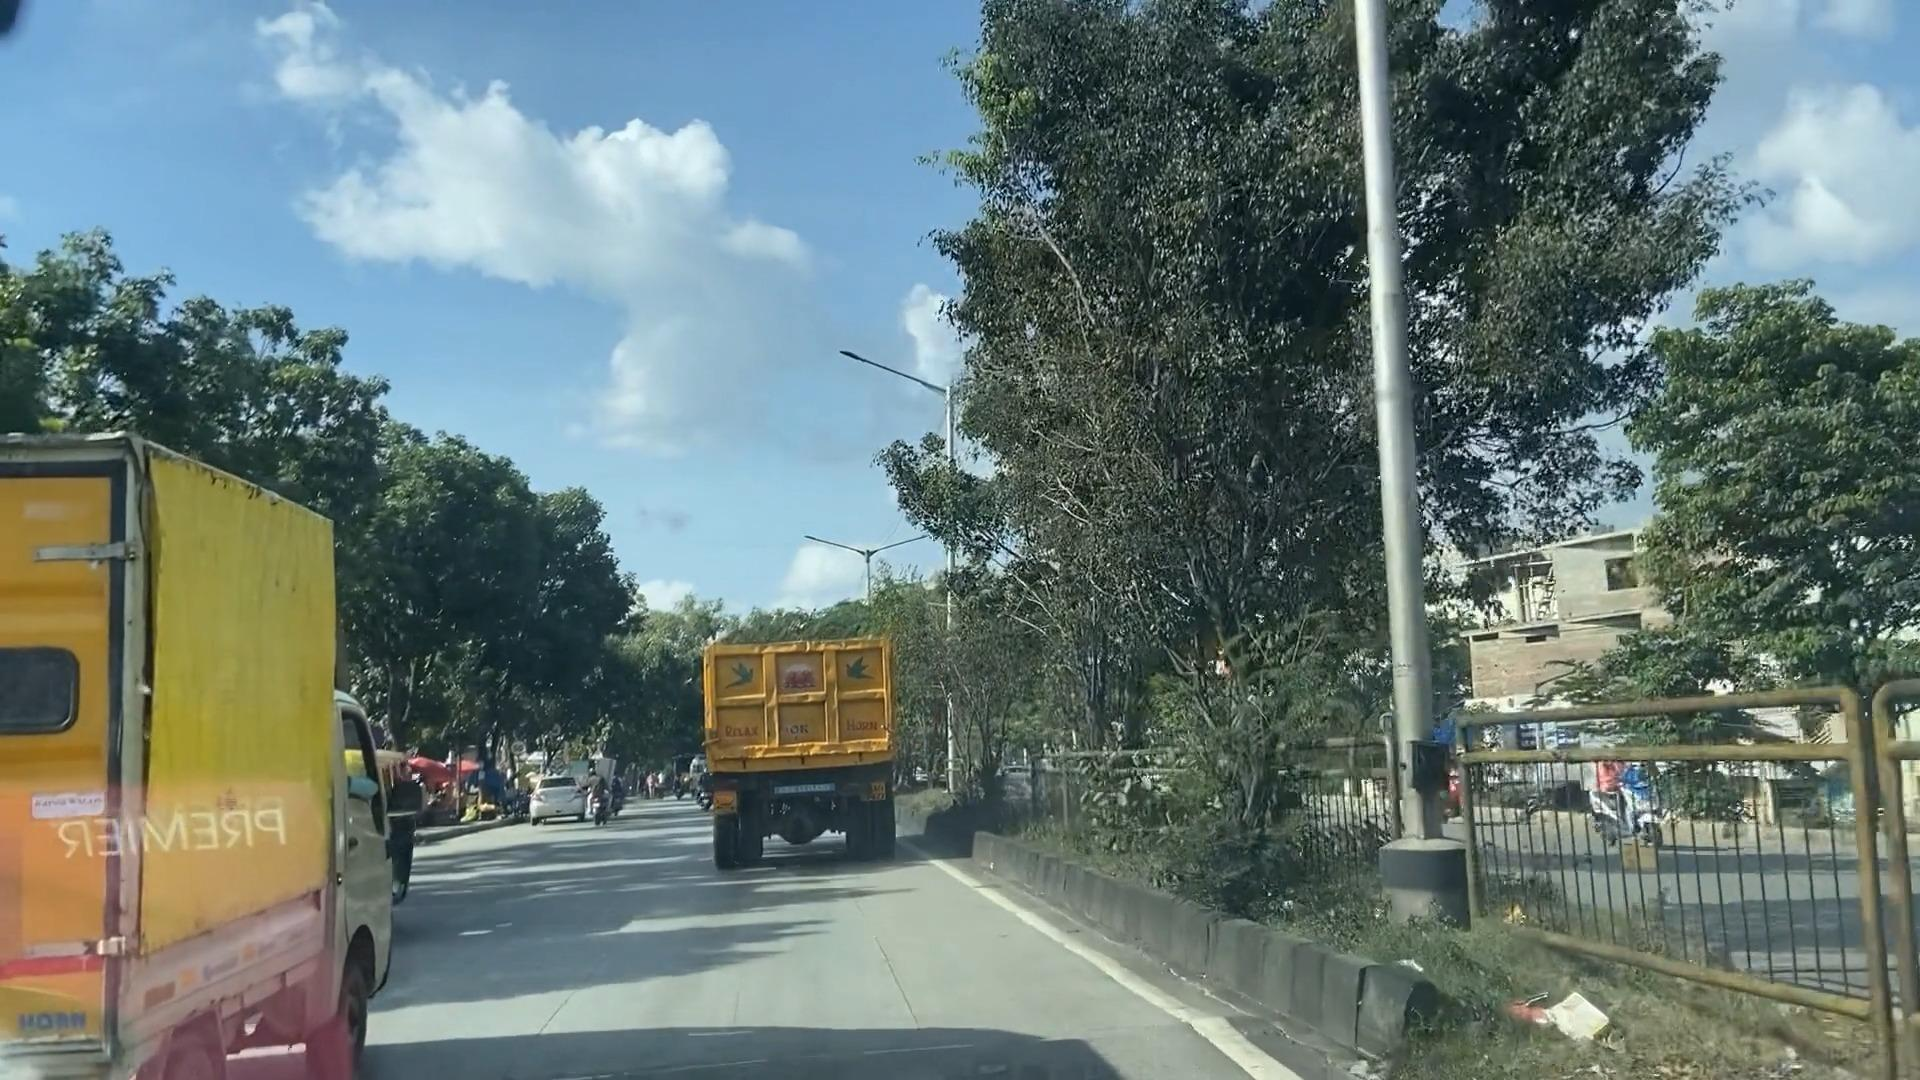HMV: (17, 439, 414, 1080), (699, 619, 894, 864)
